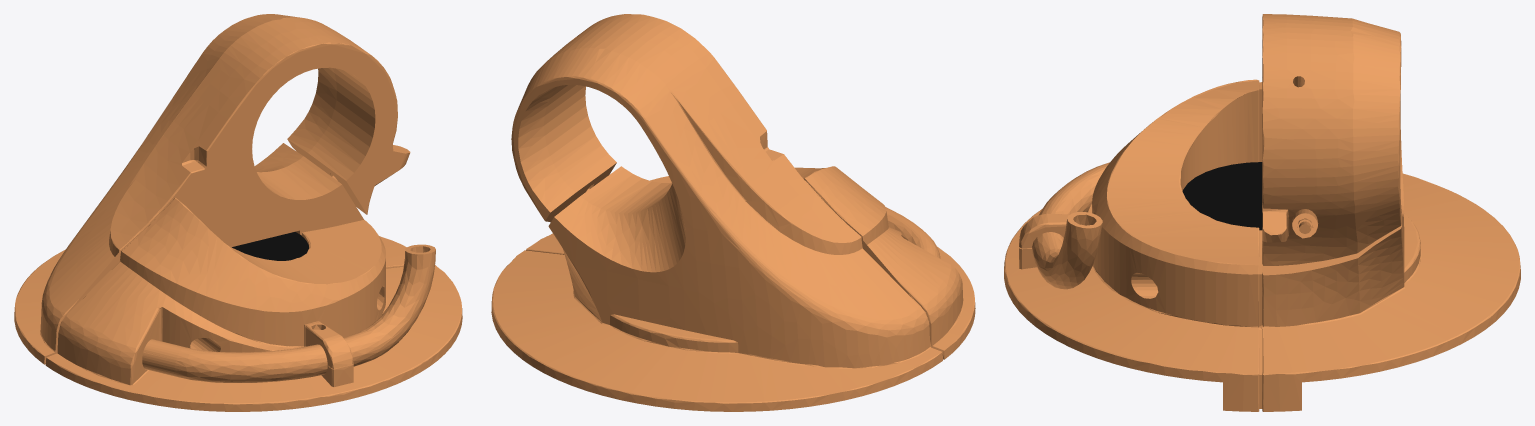
The model's file is arm1_2.dae.
The picture shows the model from 3 angles, left to right: view 1: azimuth 30°, elevation 25°; view 2: azimuth 150°, elevation 25°; view 3: azimuth 270°, elevation 25°; orthographic projection. The views are drawn at different scales.
Visible parts, largest first — view 1: Cylinder_007; view 2: Cylinder_007; view 3: Cylinder_007.
Boxes of the visible parts, x1,y1,x2,y2 form: Cylinder_007: [14, 14, 462, 411]; Cylinder_007: [491, 14, 975, 411]; Cylinder_007: [1004, 14, 1520, 411].
Bounding box in the file's own units: 0.1706 × 0.1699 × 0.1318.
